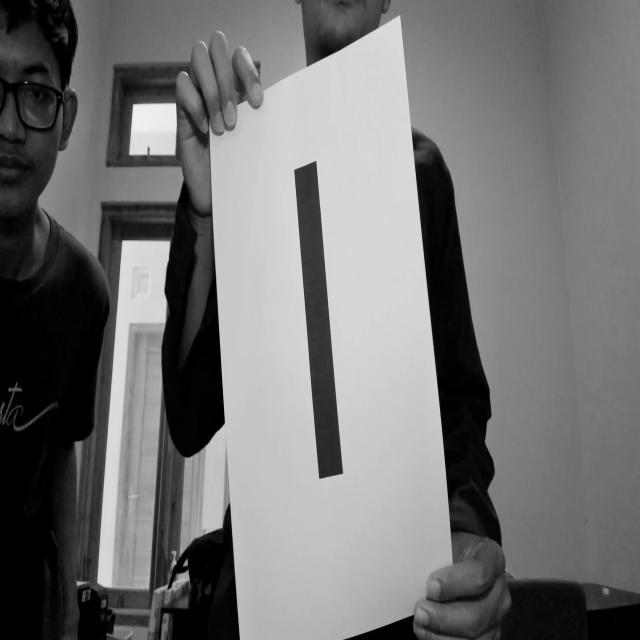i: (281, 142, 353, 508)
